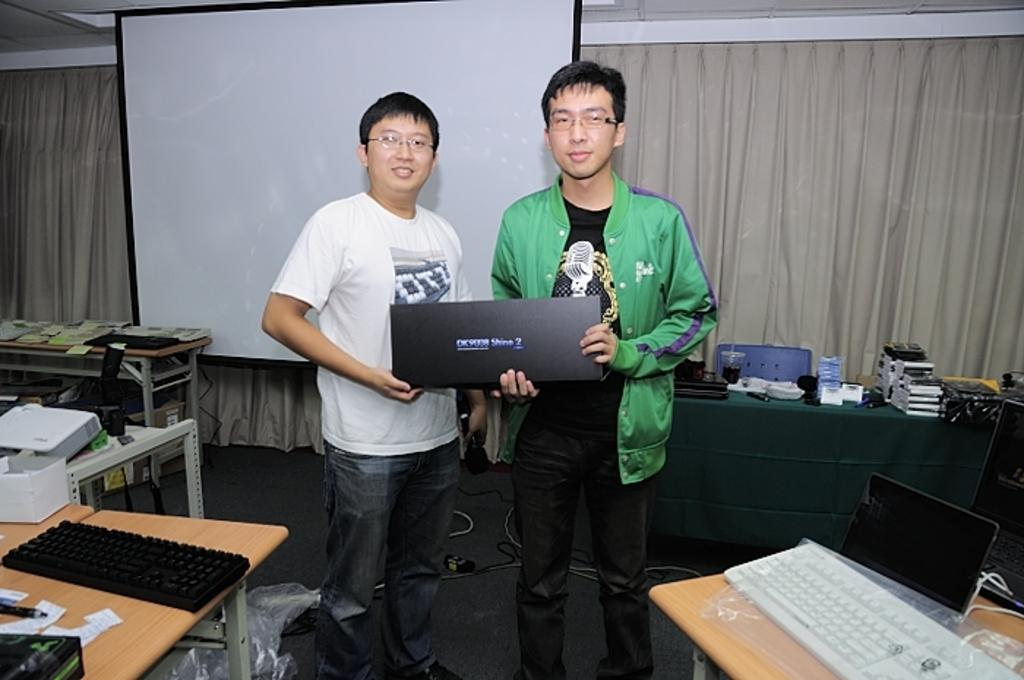Computer-keyboard: (714, 541, 1020, 679), (0, 516, 255, 616)
